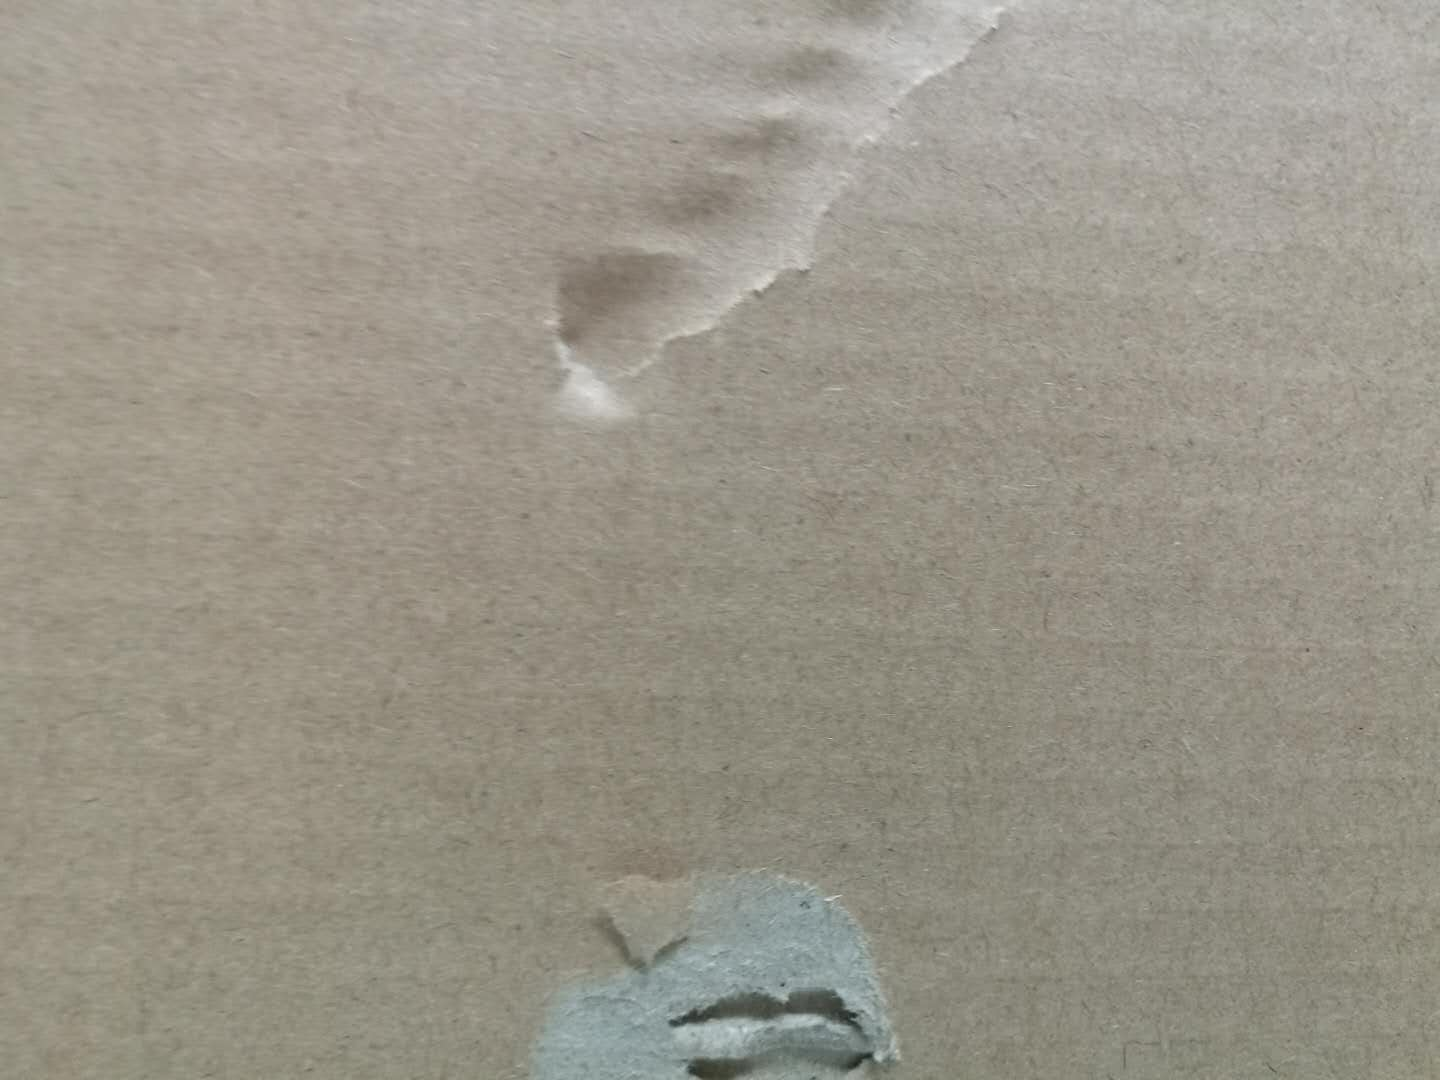defect: (516, 1, 1045, 452), (501, 847, 941, 1080)
